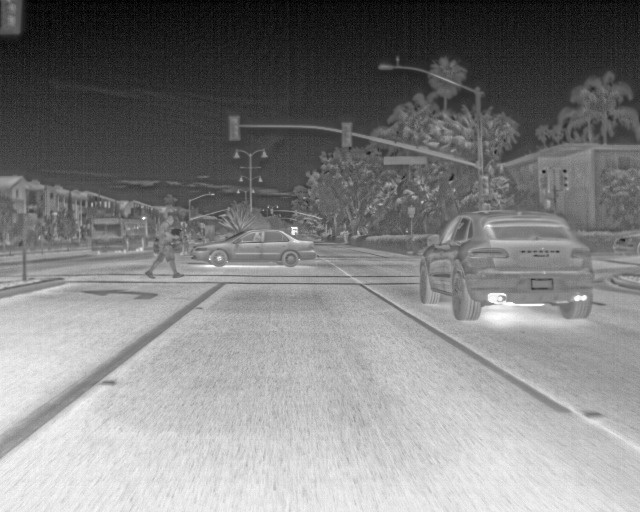vehicle: (419, 211, 597, 320), (192, 229, 315, 270), (90, 217, 148, 259)
